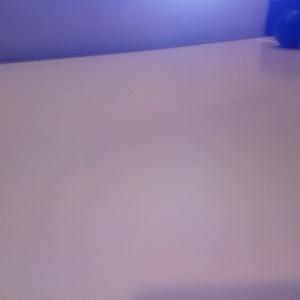dead_ball: (274, 10, 300, 48)
